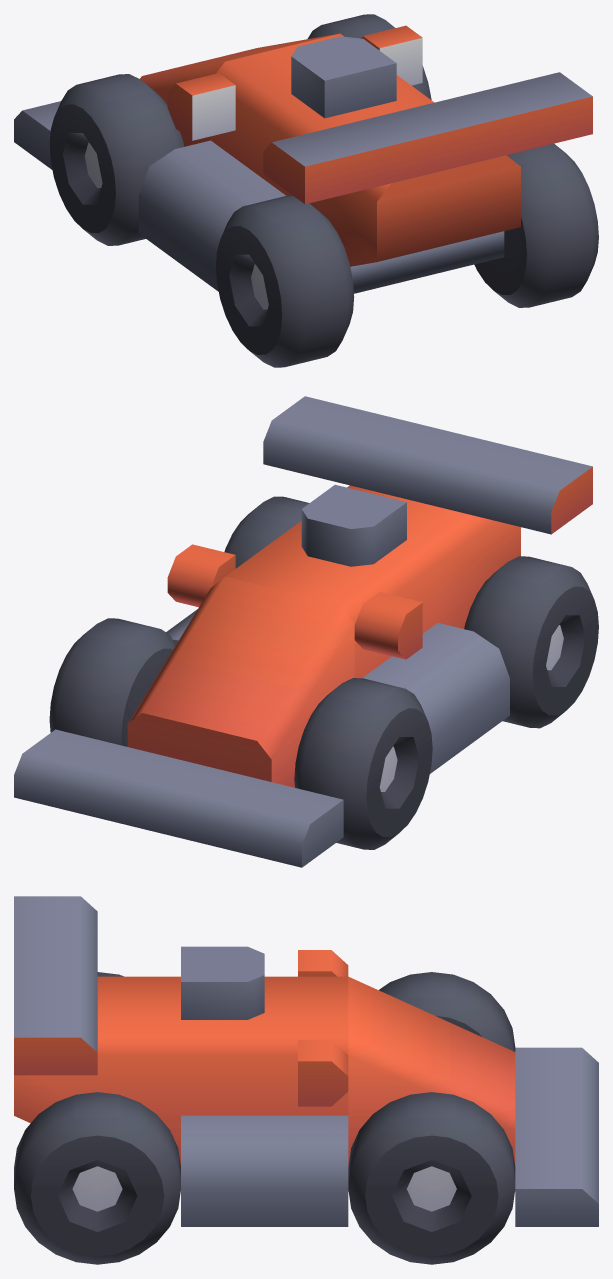
The model's file is kenney-toy-car-vehicle-speedster.glb.
3 renders of one model, top to bottom at view 1: azimuth 30°, elevation 25°; view 2: azimuth 150°, elevation 25°; view 3: azimuth 270°, elevation 25°, orthographic.
Visible parts, largest first — view 1: vehicle-speedster, wheel-bl, wheel-fl, wheel-br, wheel-fr; view 2: vehicle-speedster, wheel-fl, wheel-bl, wheel-fr, wheel-br; view 3: vehicle-speedster, wheel-fr, wheel-br, wheel-fl.
Part boxes in pixels (left/top/right/bottom): vehicle-speedster: left=14, top=25, right=592, bottom=293; wheel-bl: left=216, top=196, right=354, bottom=367; wheel-fl: left=49, top=74, right=184, bottom=245; wheel-br: left=474, top=143, right=598, bottom=307; wheel-fr: left=307, top=14, right=431, bottom=99; vehicle-speedster: left=14, top=396, right=592, bottom=867; wheel-fl: left=294, top=678, right=432, bottom=849; wheel-bl: left=464, top=556, right=598, bottom=728; wheel-fr: left=49, top=618, right=175, bottom=746; wheel-br: left=224, top=496, right=309, bottom=568; vehicle-speedster: left=14, top=896, right=598, bottom=1226; wheel-fr: left=348, top=1092, right=515, bottom=1264; wheel-br: left=14, top=1092, right=180, bottom=1264; wheel-fl: left=379, top=972, right=515, bottom=1051.
Size of the model in its own units: 0.55 by 0.375 by 0.875.
1 material, 1 textured.
